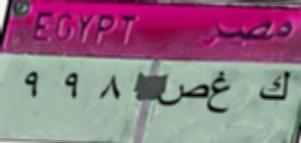8: (97, 72, 122, 105)
9: (22, 67, 41, 103), (62, 70, 80, 103)
ghayn: (208, 70, 232, 115)
kaaf: (256, 64, 292, 105)
saad: (157, 78, 207, 112)
